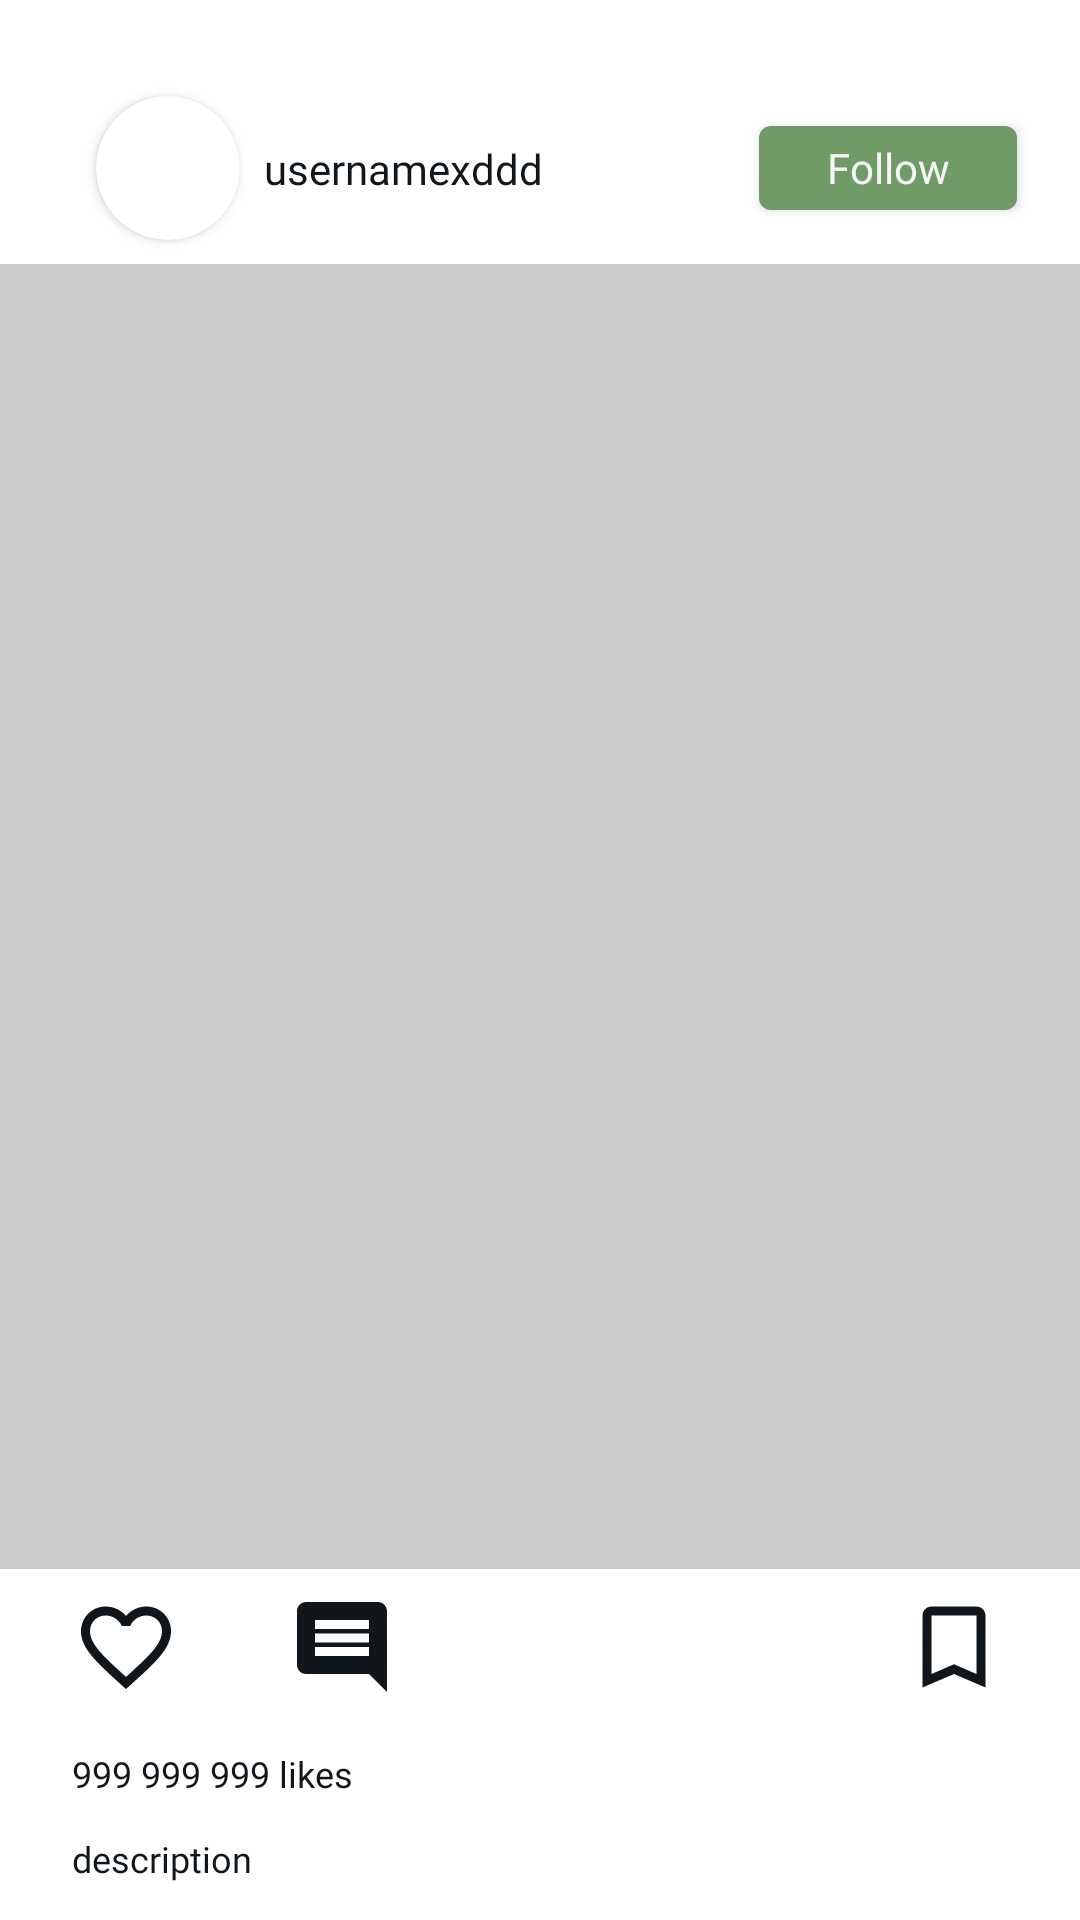

Named icons in this screenshot (1080*1920) and their centers, (x=x, y=y):
bookmark border: (x=954, y=1647)
comment: (x=342, y=1647)
favorite border: (x=126, y=1647)
